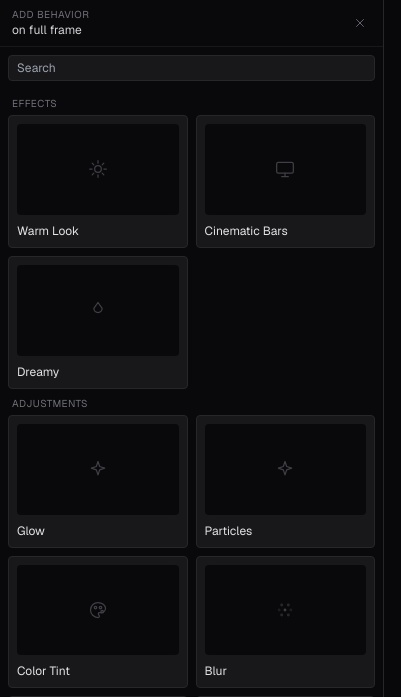
Test case: BehaviorPaletteSheet › search filters cards live
Type "warm" into the search field with placeholder "Search" at (192, 68), box [8,55,375,81]
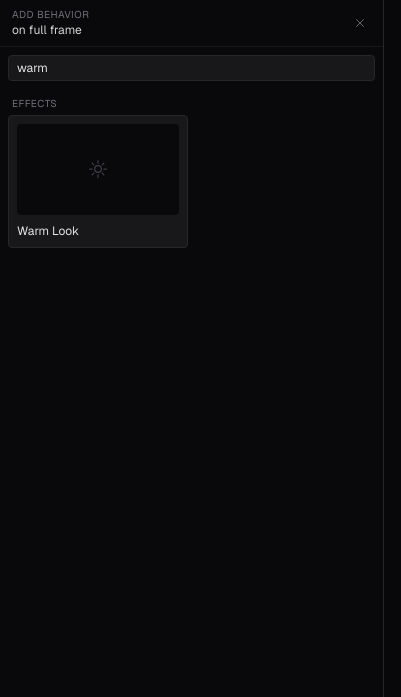
expect the text "Warm Look" is shown: met, box [17,223,79,239]
expect the button "Dreamy" is gone: met
